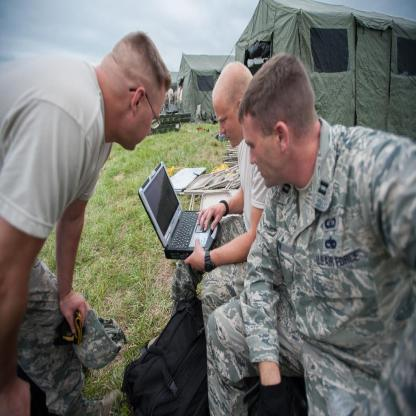board: (134, 155, 214, 266)
